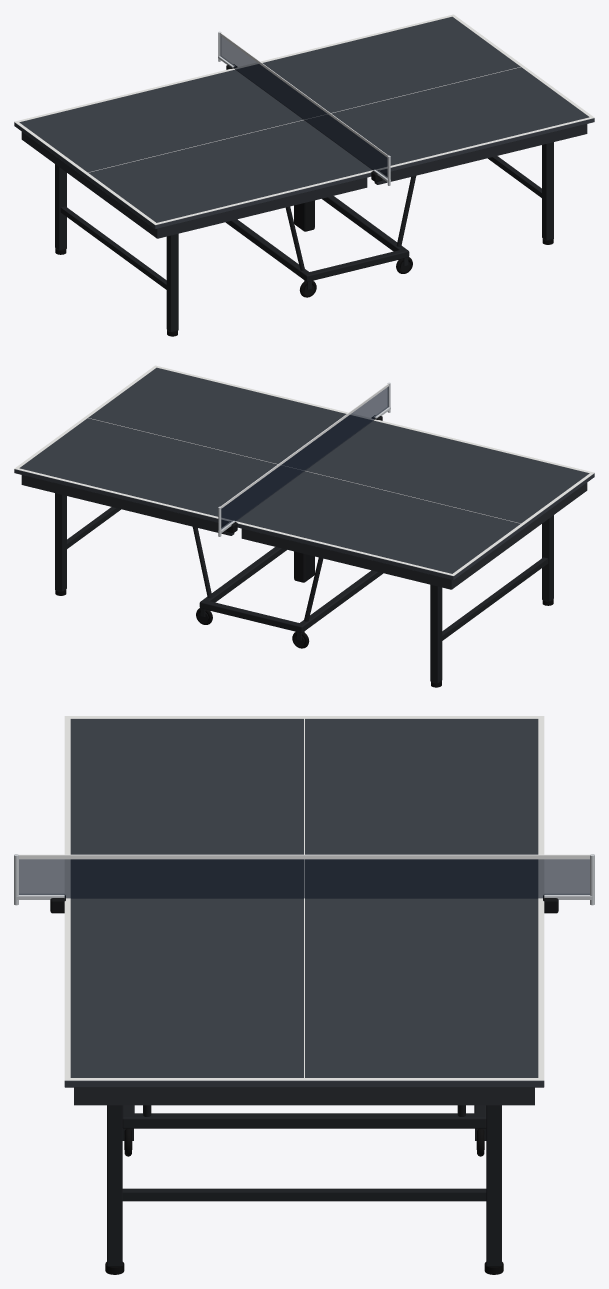
File: platte-competition-anthrazit.glb
3 views of the same model, one above another, from view 1: azimuth 30°, elevation 25°; view 2: azimuth 150°, elevation 25°; view 3: azimuth 270°, elevation 25° (orthographic). The views are drawn at different scales.
Visible parts, largest first — view 1: Platte (×2), Hälfte A, Beine (×2), Netz, Hälfte B, Fahrwerk, Tischtennisplatte; view 2: Platte (×2), Hälfte A, Beine (×2), Netz, Hälfte B, Fahrwerk, Tischtennisplatte; view 3: Platte (×2), Netz, Hälfte B, Beine, Fahrwerk, Hälfte A.
Boxes of the visible parts, x1,y1,x2,y2 form: Platte (×2): (14, 16, 594, 229); Hälfte A: (14, 68, 373, 238); Beine (×2): (55, 142, 553, 336); Netz: (218, 31, 390, 185); Hälfte B: (235, 14, 594, 184); Fahrwerk: (225, 196, 412, 297); Tischtennisplatte: (285, 176, 416, 270); Platte (×2): (14, 367, 594, 580); Hälfte A: (235, 419, 594, 589); Beine (×2): (55, 493, 553, 687); Netz: (218, 382, 390, 536); Hälfte B: (14, 365, 373, 535); Fahrwerk: (196, 547, 383, 648); Tischtennisplatte: (192, 527, 323, 621); Platte (×2): (64, 719, 544, 1087); Netz: (14, 854, 594, 913); Hälfte B: (64, 898, 544, 1105); Beine: (105, 1105, 503, 1274); Fahrwerk: (122, 1105, 486, 1156); Hälfte A: (64, 716, 544, 897).
Bounding box in the file's own units: 2.74 × 0.9125 × 1.85.
